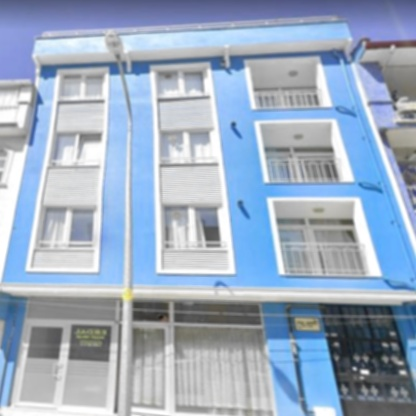door: (324, 315, 416, 416), (12, 319, 72, 410), (131, 324, 170, 416), (310, 226, 369, 276)
